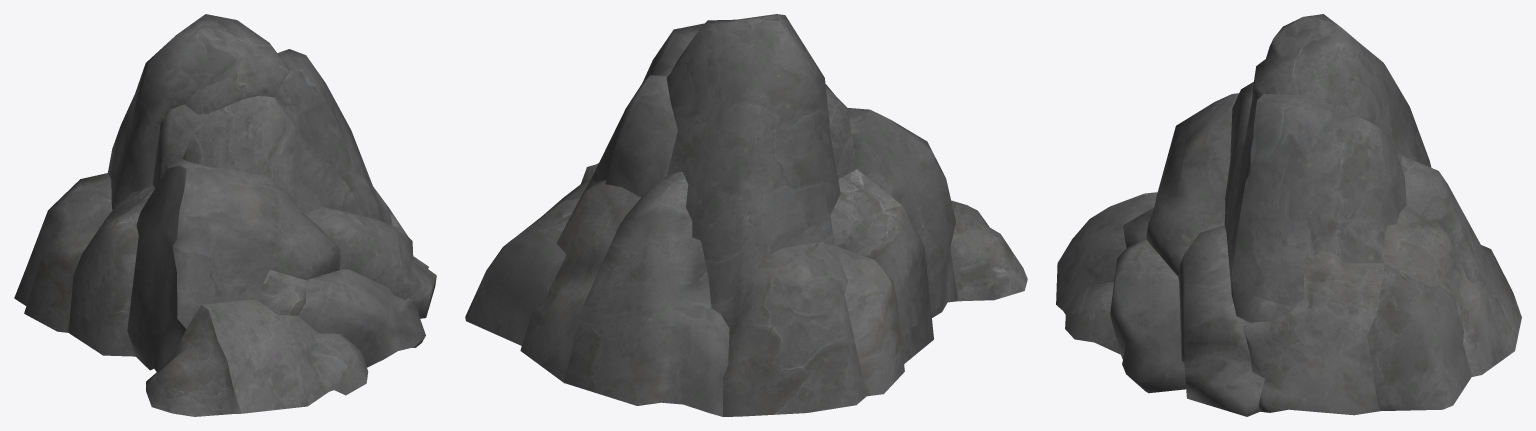
File: SM_Com_Roc_52AS.fbx
3 views of the same model, side by side, from view 1: azimuth 30°, elevation 25°; view 2: azimuth 150°, elevation 25°; view 3: azimuth 270°, elevation 25° (orthographic). The views are drawn at different scales.
Parts seen in each view (by area): view 1: SM_Com_Roc_52AS.mo; view 2: SM_Com_Roc_52AS.mo; view 3: SM_Com_Roc_52AS.mo.
Part boxes in pixels (x1,y1,x2,y2): SM_Com_Roc_52AS.mo: (14, 14, 436, 416); SM_Com_Roc_52AS.mo: (465, 14, 1027, 416); SM_Com_Roc_52AS.mo: (1056, 14, 1521, 416).
Bounding box in the file's own units: 7.45 × 5.92 × 8.19.
